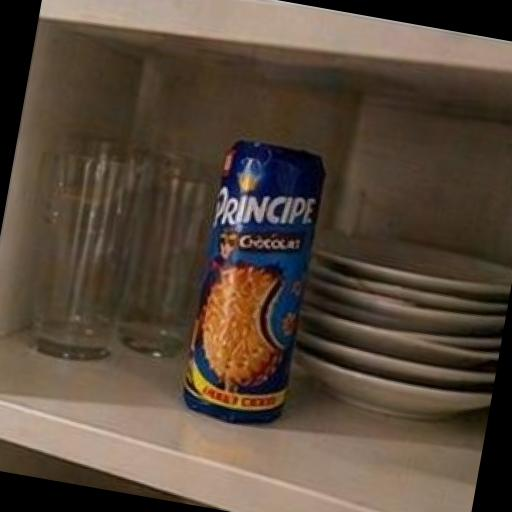prince: (110, 75, 402, 492)
